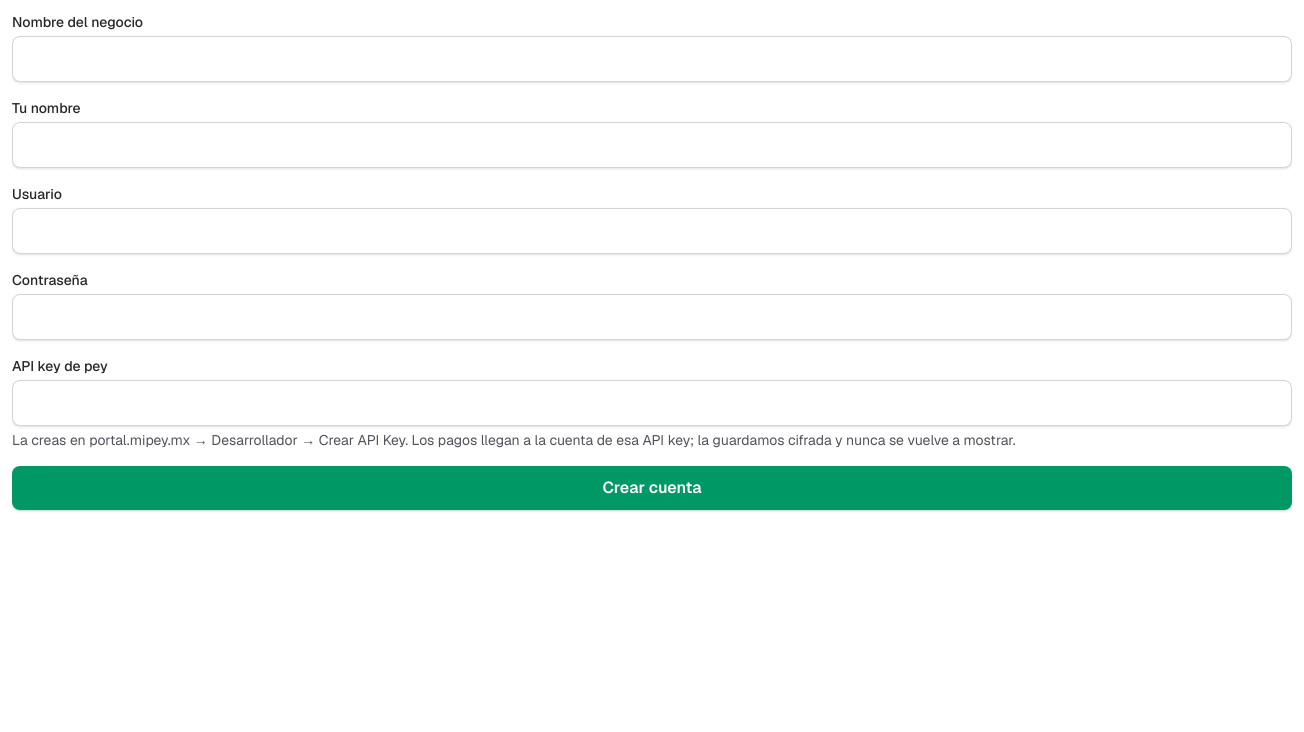
Test: RegisterForm › muestra el rechazo de la API sin borrar los datos del negocio
In the field labelled "Nombre del negocio": (652, 59) left=12, top=36, right=1292, bottom=82, type "Tacos Ana"
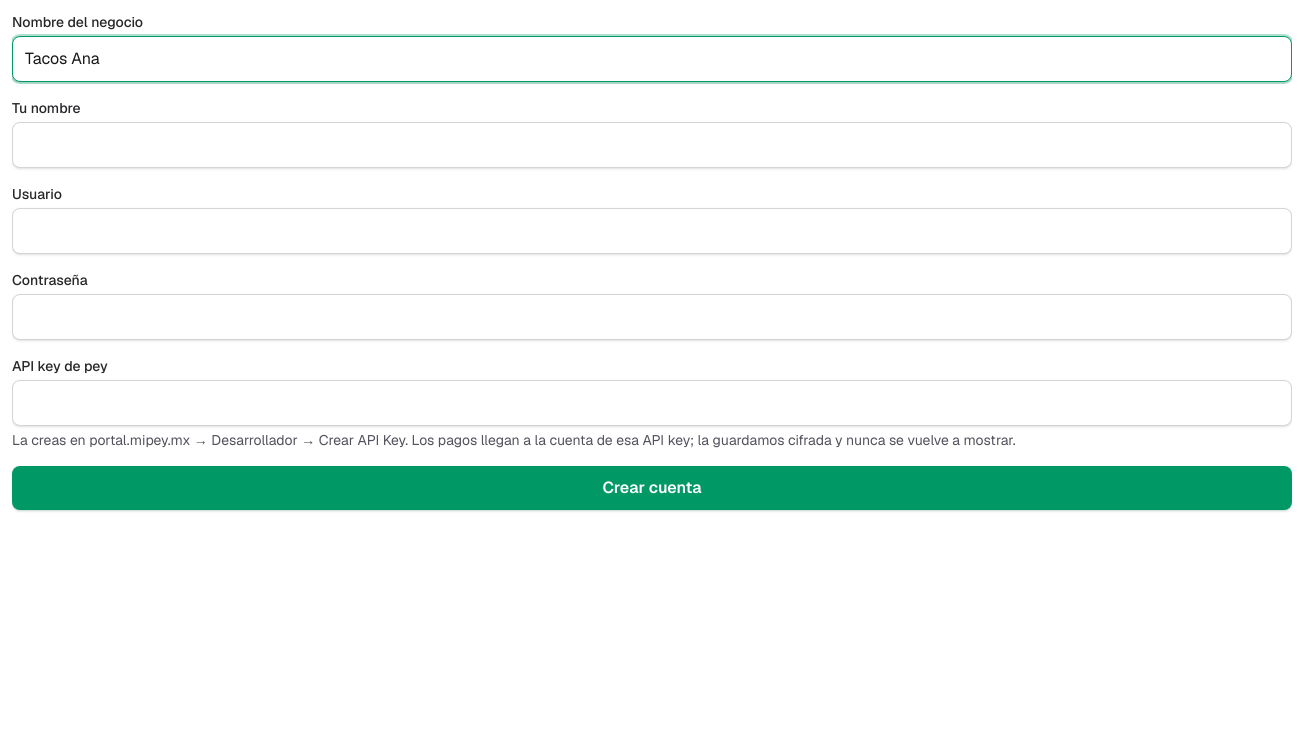
Click the button "Crear cuenta": (652, 488) left=12, top=466, right=1292, bottom=510
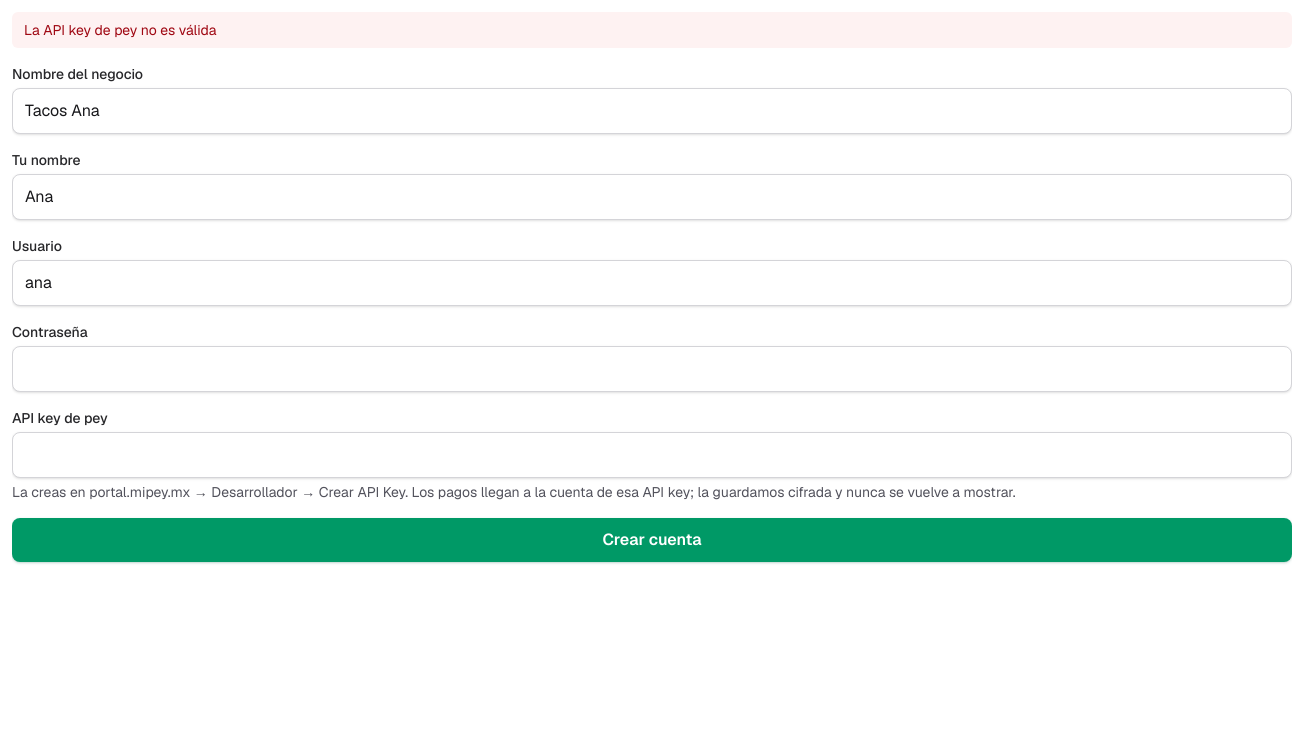
expect the message reads "La API key de pey no es válida": met, box left=24, top=21, right=216, bottom=39
expect the field labelled "Usuario" holds "ana": met, box left=12, top=260, right=1292, bottom=306
